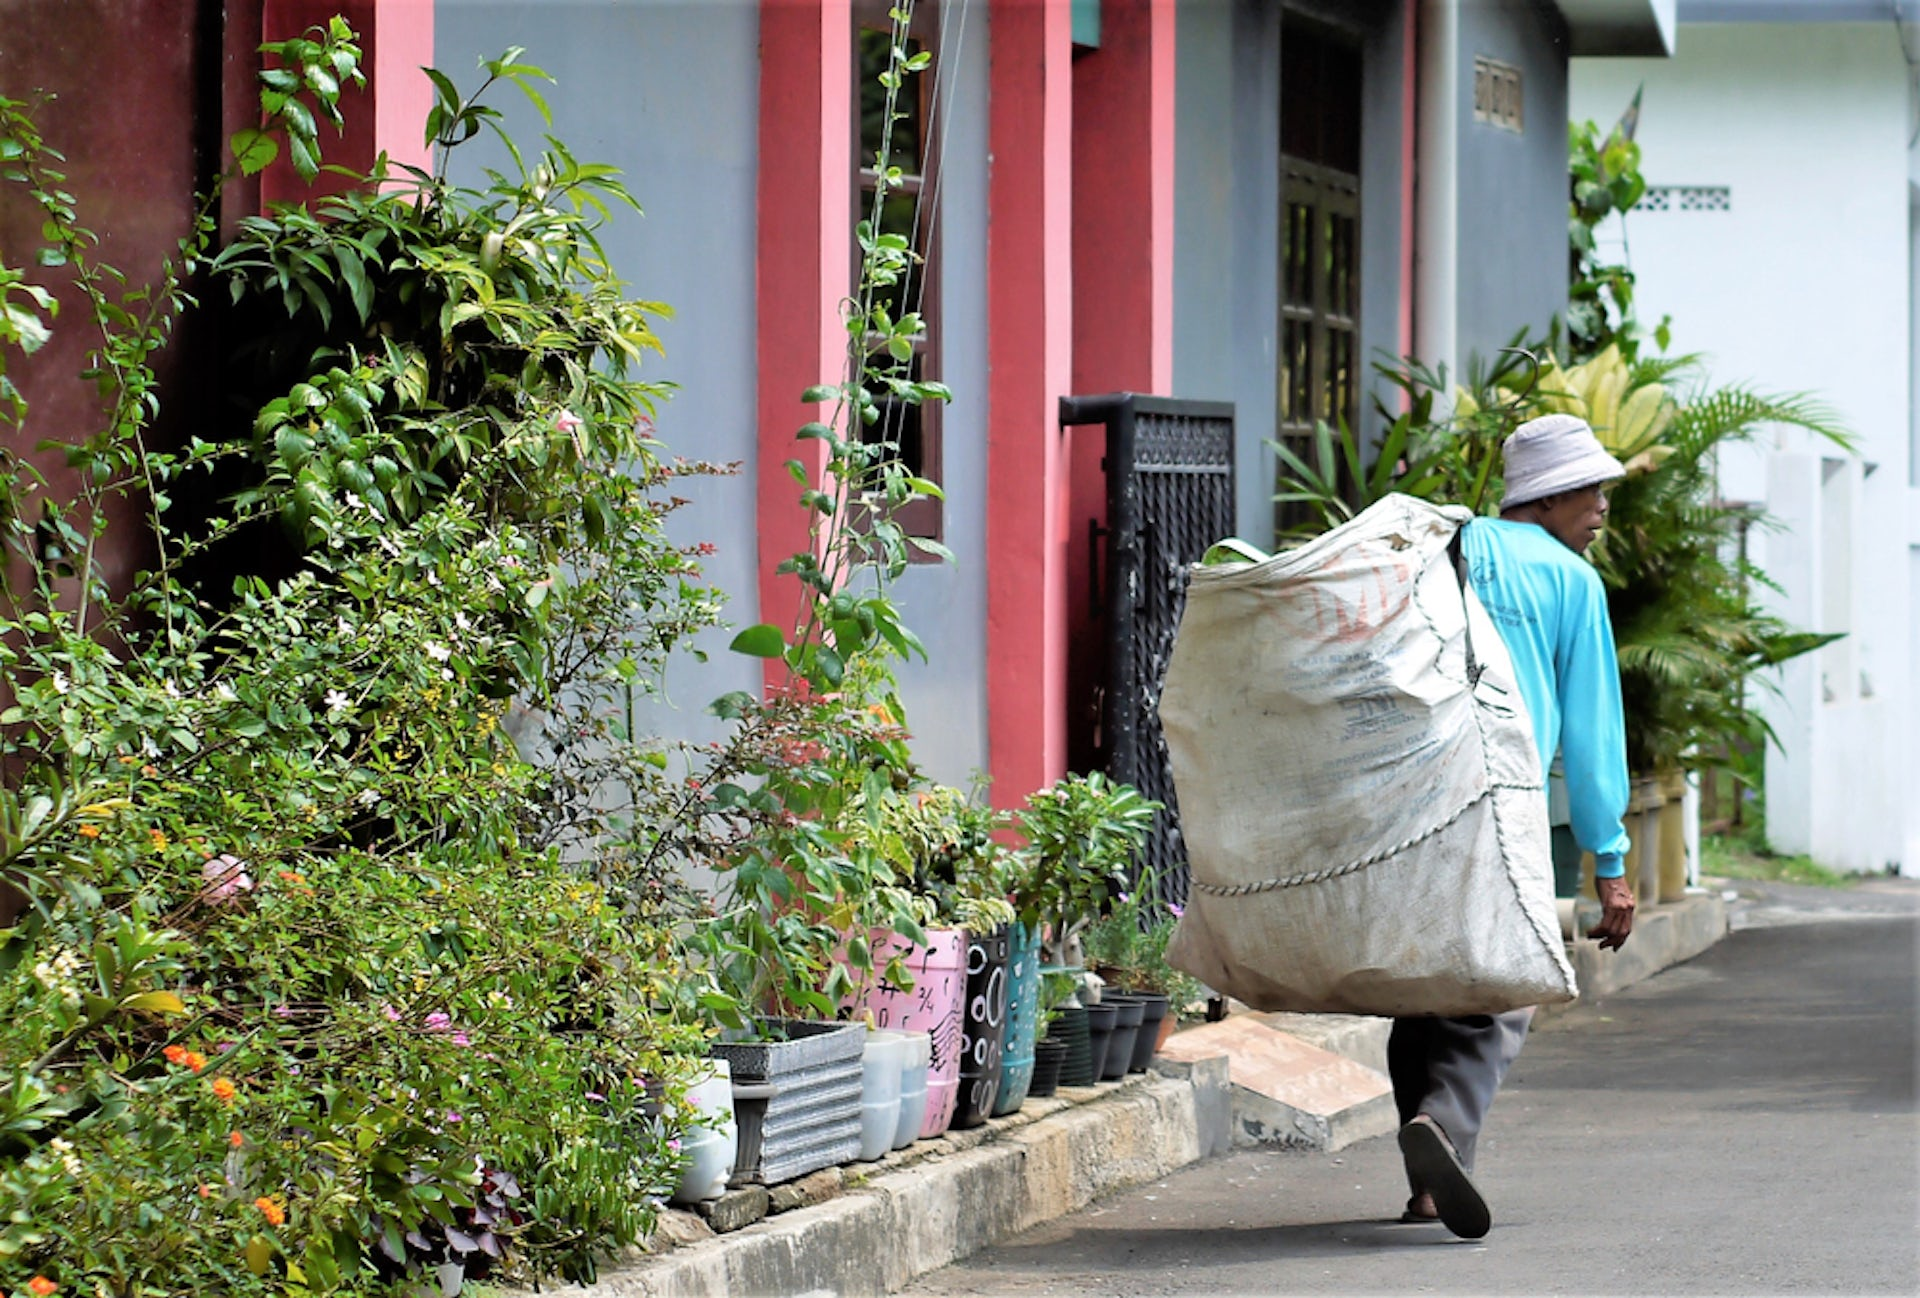pemulung: (1127, 400, 1659, 1246)
